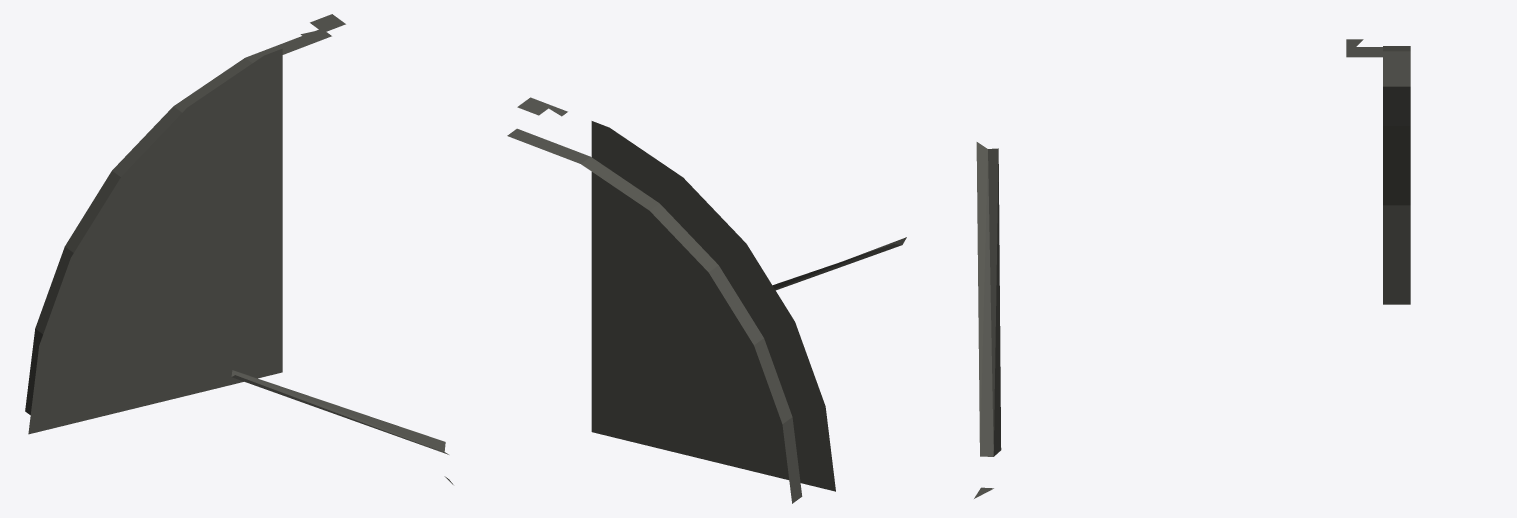
3 renders of one model, left to right at view 1: azimuth 30°, elevation 25°; view 2: azimuth 150°, elevation 25°; view 3: azimuth 270°, elevation 25°, orthographic. The views are drawn at different scales.
Size of the model in its own units: 1.06 by 1.16 by 1.22.
